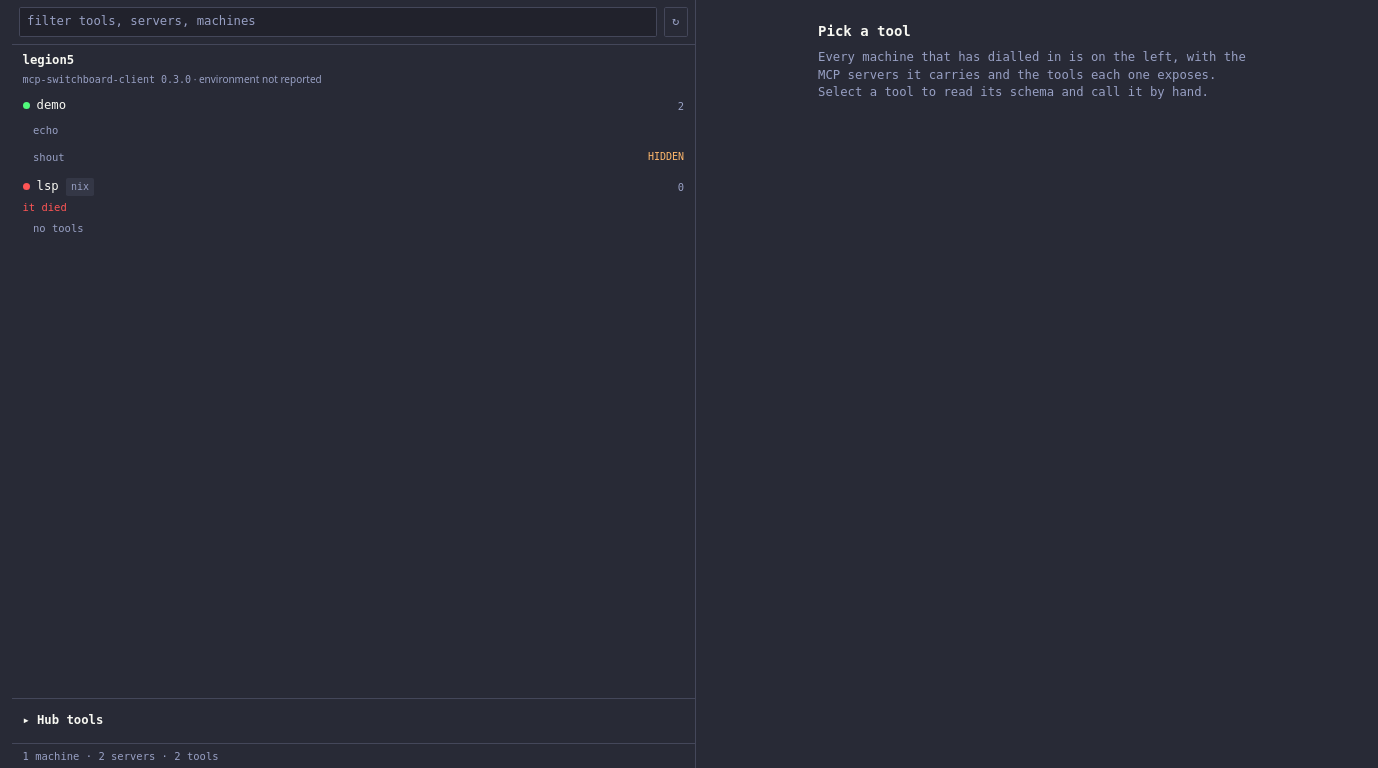
Scenario: Connections › opens the tool panel on selection
Click the list item "echo" at coordinates (46, 130), box [26,118,691,142]
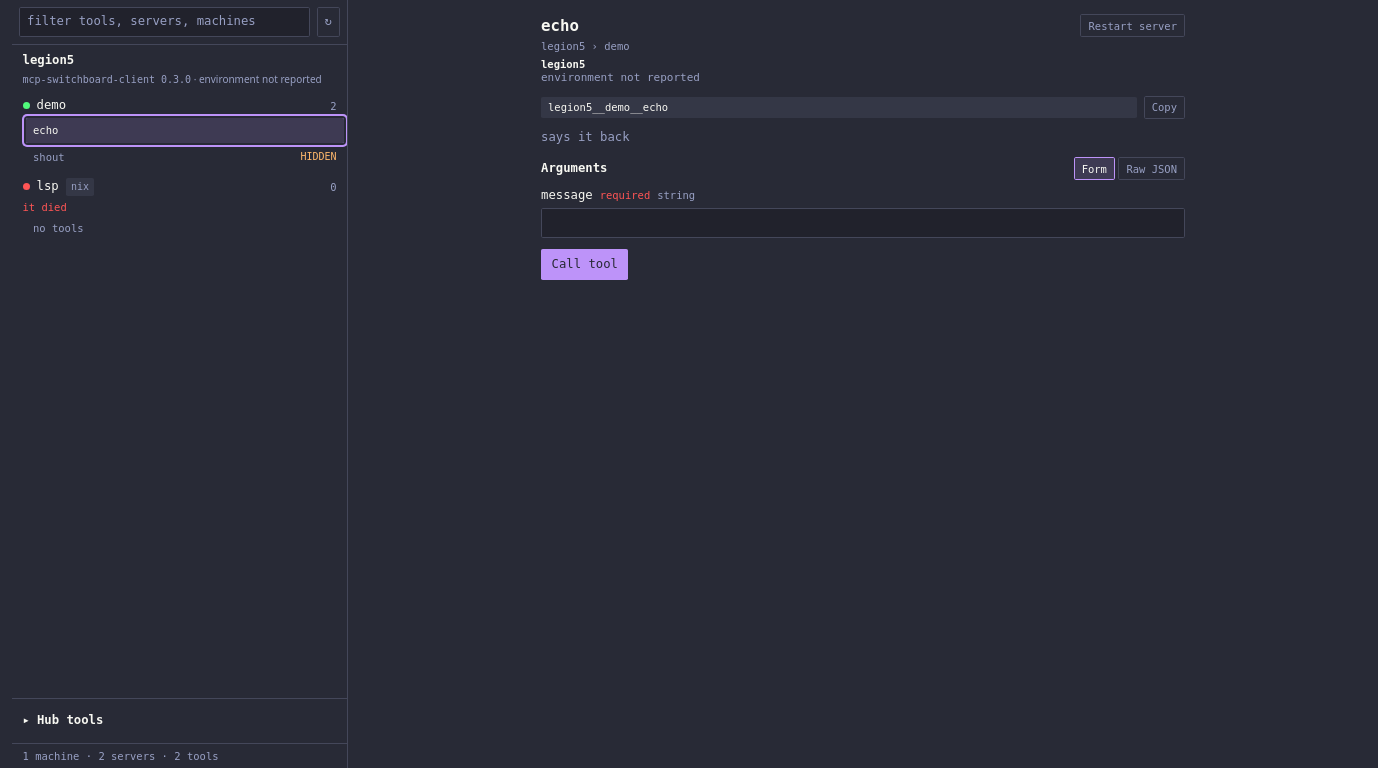
Expected: the heading "echo" is shown, [541,16,579,35]
Expected: the text "legion5__demo__echo" is shown, [541,96,1137,118]
Expected: the text "says it back" is shown, [541,130,630,144]
